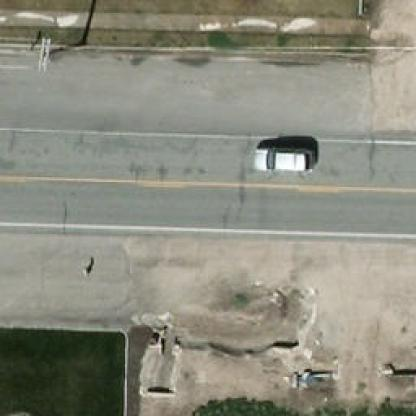car: (250, 141, 312, 174)
